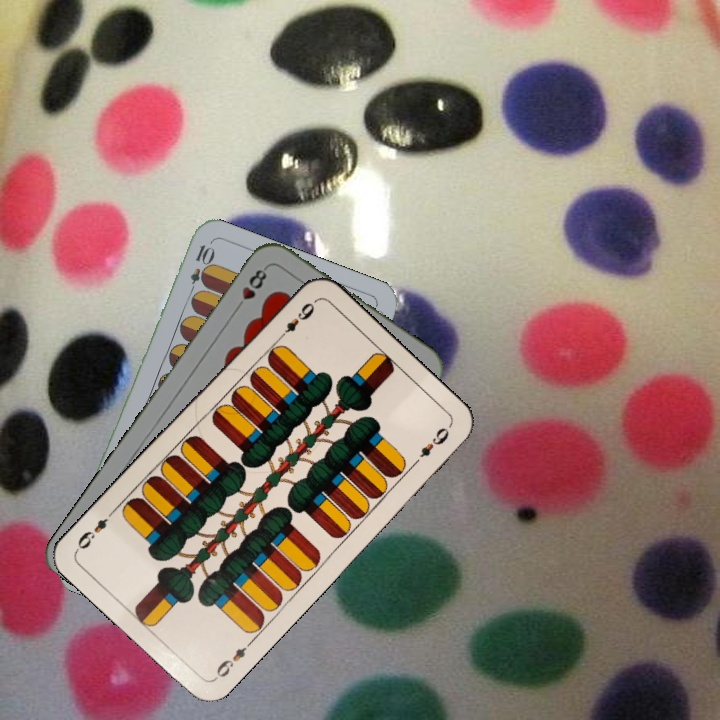E10: (184, 240, 215, 299)
E9: (210, 636, 256, 683), (273, 297, 318, 344)
H8: (231, 262, 270, 314)
